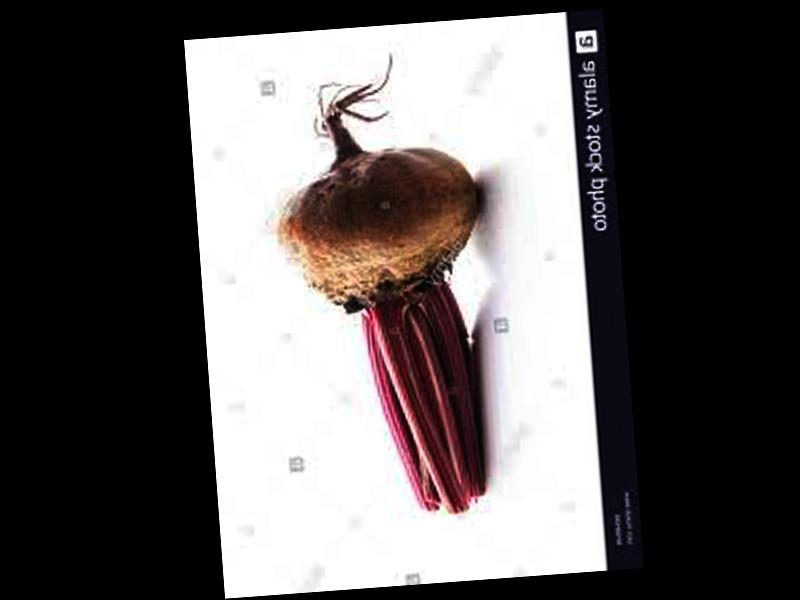Beet: (266, 48, 501, 524)
